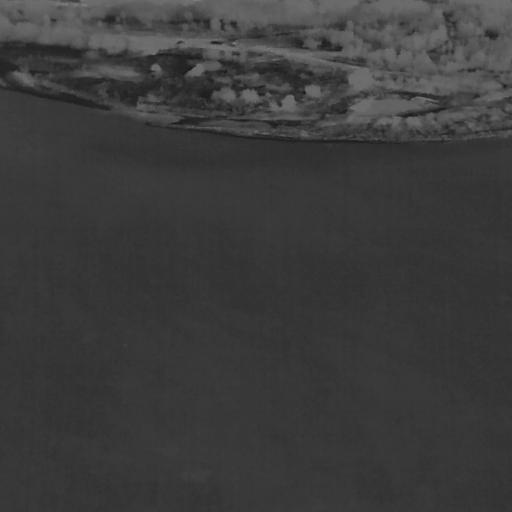uav: (121, 340, 129, 349)
